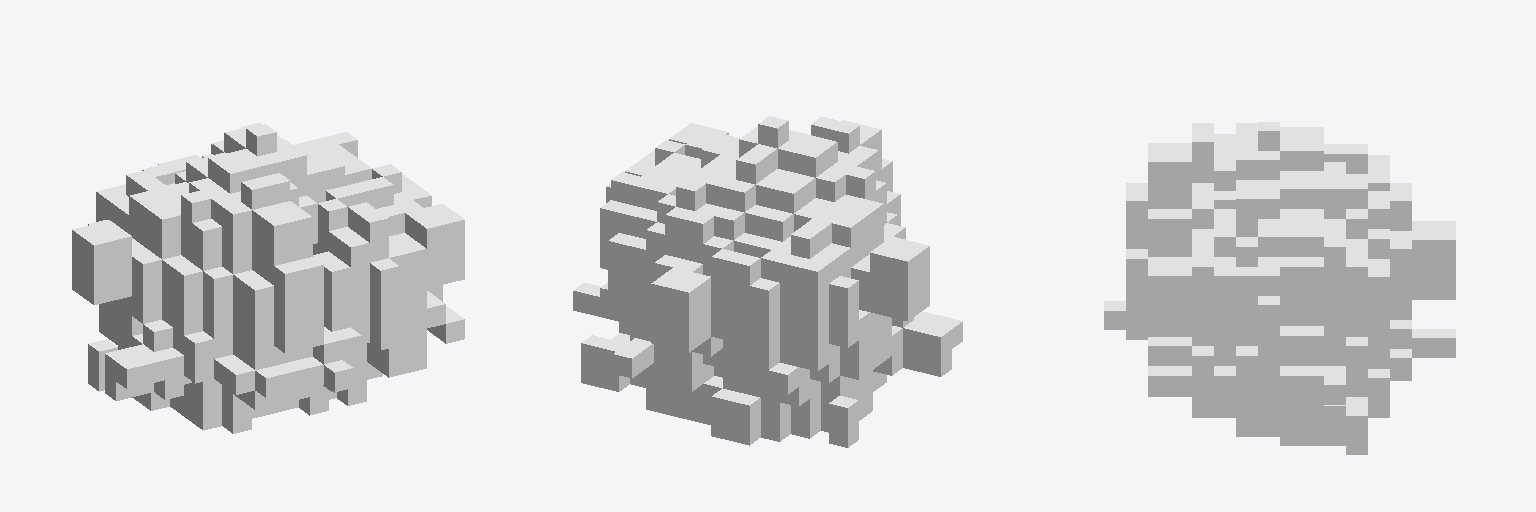
File: Snow_Environment_Deco_Tile_03-5.obj
The picture shows the model from 3 angles: view 1: azimuth 30°, elevation 25°; view 2: azimuth 150°, elevation 25°; view 3: azimuth 270°, elevation 25°; orthographic projection.
Parts seen in each view (by area): view 1: Snow_Environment_Deco_Tile_03-5; view 2: Snow_Environment_Deco_Tile_03-5; view 3: Snow_Environment_Deco_Tile_03-5.
Boxes of the visible parts, box(x1,y1,x2,y2) form: Snow_Environment_Deco_Tile_03-5: box(72, 122, 464, 433); Snow_Environment_Deco_Tile_03-5: box(573, 116, 962, 447); Snow_Environment_Deco_Tile_03-5: box(1104, 122, 1455, 454).
Size of the model in its own units: 17 by 13 by 16.